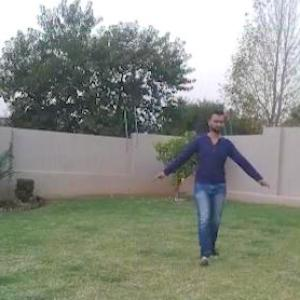land: (142, 91, 285, 280)
